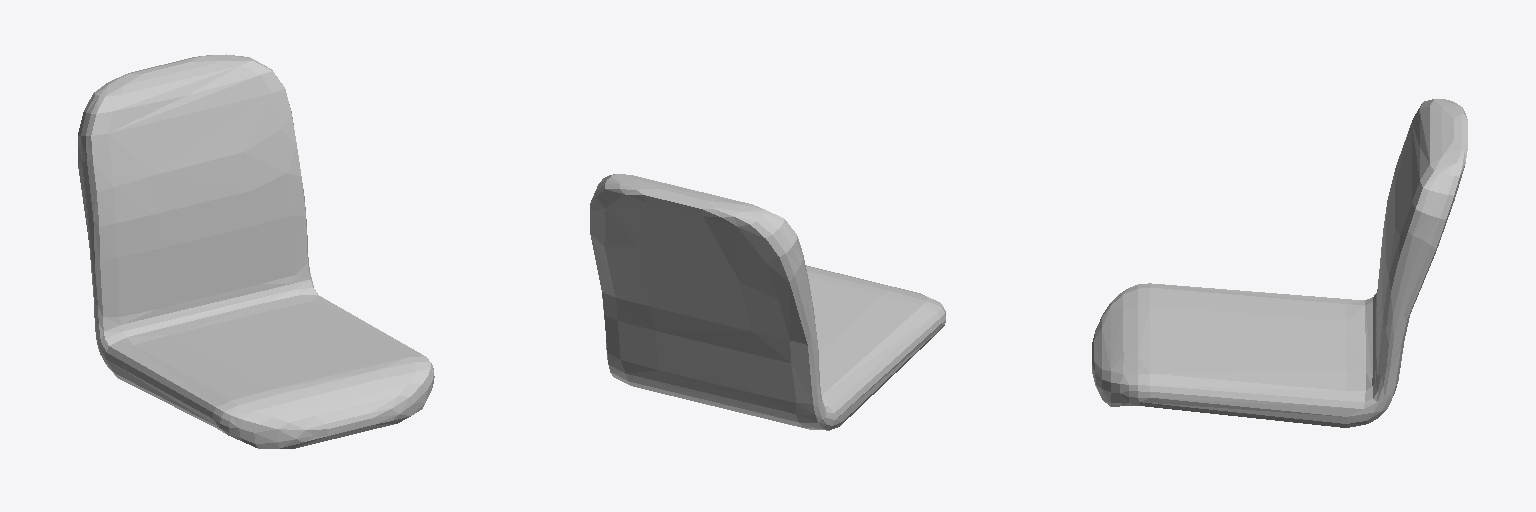
Rendered from chair-top.obj.
The picture shows the model from 3 angles: view 1: azimuth 30°, elevation 25°; view 2: azimuth 150°, elevation 25°; view 3: azimuth 270°, elevation 25°; orthographic projection.
Parts seen in each view (by area): view 1: Chair_001; view 2: Chair_001; view 3: Chair_001.
Boxes of the visible parts, box(x1,y1,x2,y2) form: Chair_001: box(78, 54, 434, 448); Chair_001: box(590, 174, 945, 430); Chair_001: box(1092, 99, 1467, 427).
Size of the model in its own units: 0.4909 by 0.5408 by 0.7347.